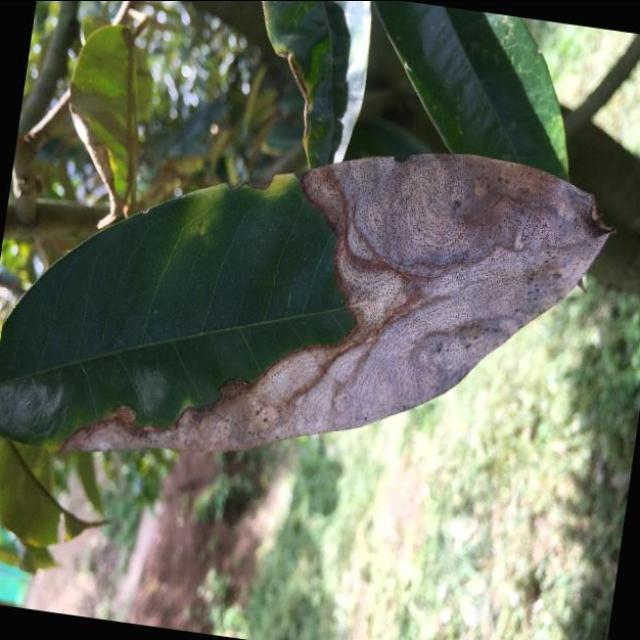Leaf Blight: (0, 82, 631, 530)
